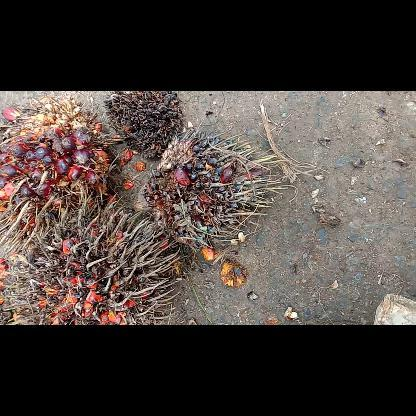TBS abnormal: (132, 126, 286, 262), (102, 90, 184, 162)
TBS masak: (0, 98, 119, 226)
Terlalu masak: (1, 204, 177, 324)
